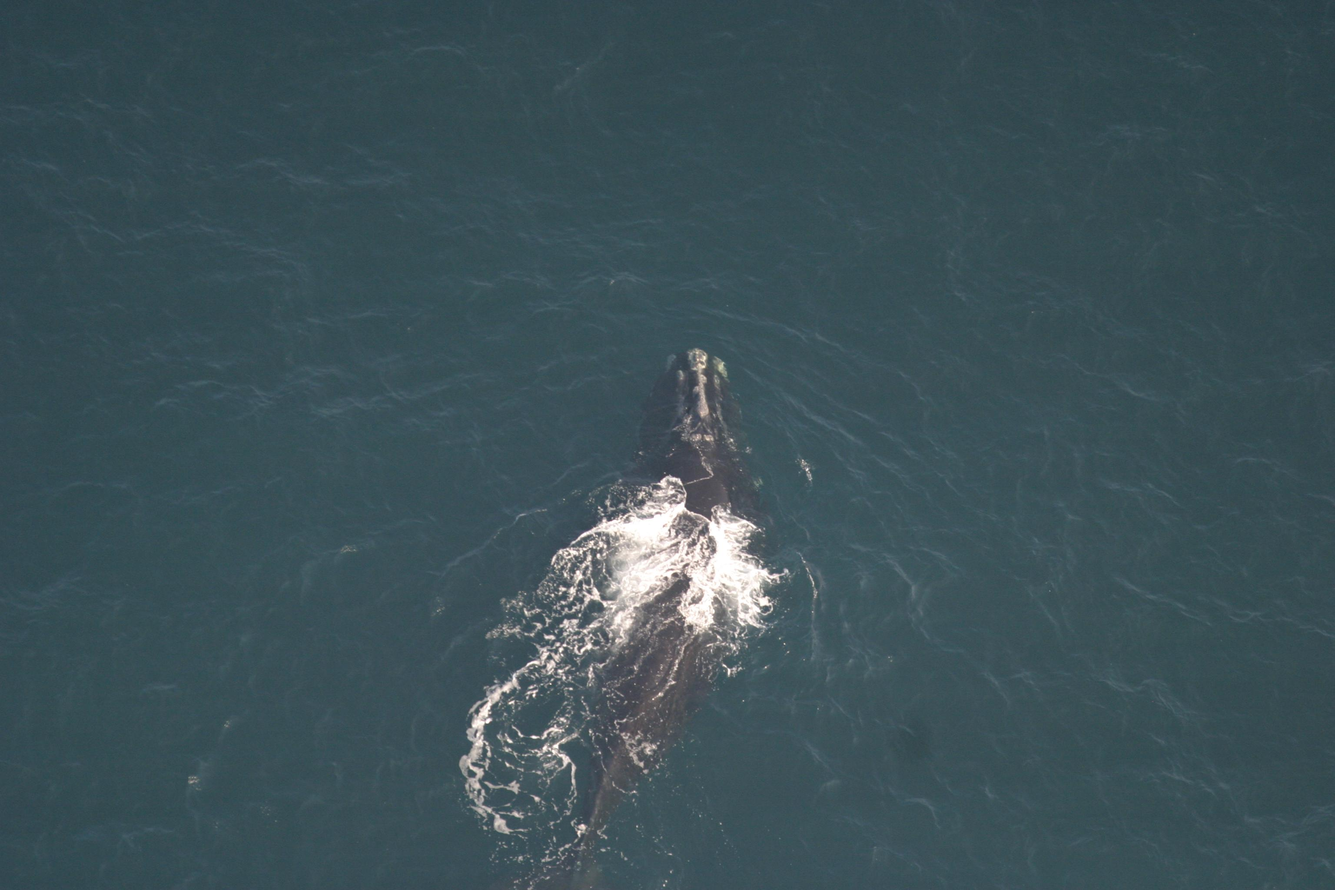whale: (543, 340, 822, 890)
